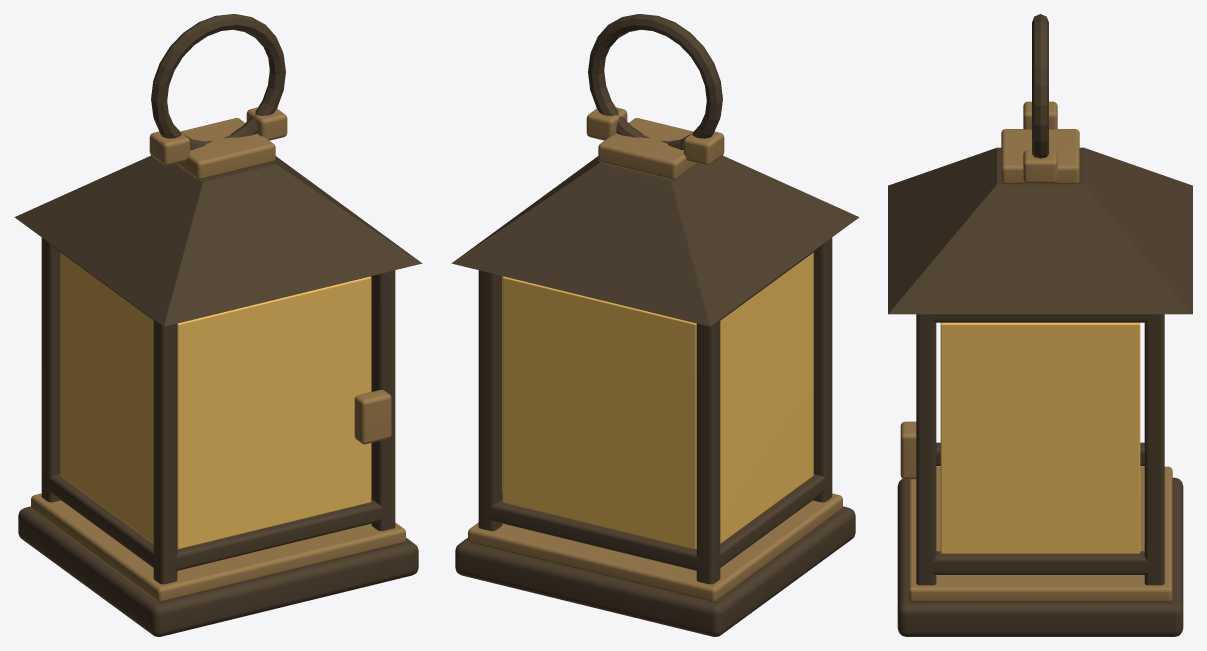
The model's file is table-lantern.glb.
The picture shows the model from 3 angles, left to right: view 1: azimuth 30°, elevation 25°; view 2: azimuth 150°, elevation 25°; view 3: azimuth 270°, elevation 25°; orthographic projection.
Parts seen in each view (by area): view 1: Amber front or rear pane, Sloped vented roof, Amber side pane, Flat stable foot, Brass base lip, Corner upright, Upright carrying ring, Corner upright.002, Corner upright.001, Front rail, Roof brass cap, Left rail (+3 smaller); view 2: Amber front or rear pane.001, Sloped vented roof, Amber side pane, Flat stable foot, Brass base lip, Corner upright.001, Corner upright.003, Upright carrying ring, Corner upright, Back rail, Roof brass cap, Left rail (+2 smaller); view 3: Amber side pane.001, Sloped vented roof, Flat stable foot, Brass base lip, Corner upright.002, Corner upright.003, Right rail, Roof brass cap, Upright carrying ring, Right rail.001, Handle pivot.001, Front door latch (+1 smaller).
Boxes of the visible parts, <box> form: Amber front or rear pane: <box>177,276,371,549</box>; Sloped vented roof: <box>14,155,422,326</box>; Amber side pane: <box>60,252,153,543</box>; Flat stable foot: <box>18,506,418,636</box>; Brass base lip: <box>31,493,405,602</box>; Corner upright: <box>153,320,177,584</box>; Upright carrying ring: <box>151,14,285,149</box>; Corner upright.002: <box>371,270,395,531</box>; Corner upright.001: <box>41,237,60,502</box>; Front rail: <box>168,499,383,570</box>; Roof brass cap: <box>176,118,275,179</box>; Left rail: <box>43,474,153,567</box>; Amber front or rear pane.001: <box>502,276,696,549</box>; Sloped vented roof: <box>451,155,859,326</box>; Amber side pane: <box>720,252,813,543</box>; Flat stable foot: <box>455,506,855,636</box>; Brass base lip: <box>468,493,842,602</box>; Corner upright.001: <box>696,320,720,584</box>; Corner upright.003: <box>478,270,502,531</box>; Upright carrying ring: <box>588,14,722,149</box>; Corner upright: <box>813,237,832,502</box>; Back rail: <box>483,499,705,570</box>; Roof brass cap: <box>598,118,697,179</box>; Left rail: <box>715,474,826,569</box>; Amber side pane.001: <box>940,322,1140,553</box>; Sloped vented roof: <box>888,147,1192,314</box>; Flat stable foot: <box>897,477,1183,636</box>; Brass base lip: <box>908,466,1172,602</box>; Corner upright.002: <box>916,314,936,585</box>; Corner upright.003: <box>1144,314,1164,585</box>; Right rail: <box>923,551,1157,574</box>; Roof brass cap: <box>1001,129,1079,184</box>; Upright carrying ring: <box>1032,14,1048,158</box>; Right rail.001: <box>923,314,1157,322</box>; Handle pivot.001: <box>1023,150,1057,183</box>; Front door latch: <box>900,421,916,479</box>.
Size of the model in its own units: 0.22 by 0.427 by 0.2135.
